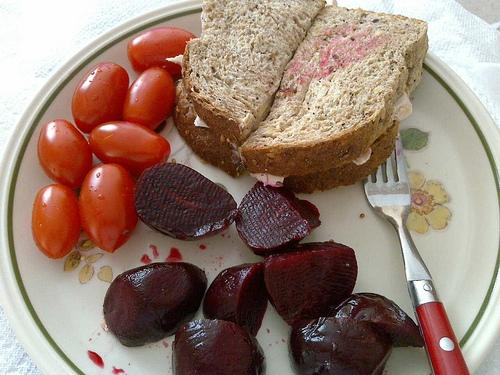tomato: (79, 163, 140, 252), (89, 121, 171, 176), (72, 62, 130, 134), (38, 119, 92, 190), (32, 184, 82, 259), (126, 27, 198, 76), (121, 67, 174, 131)
